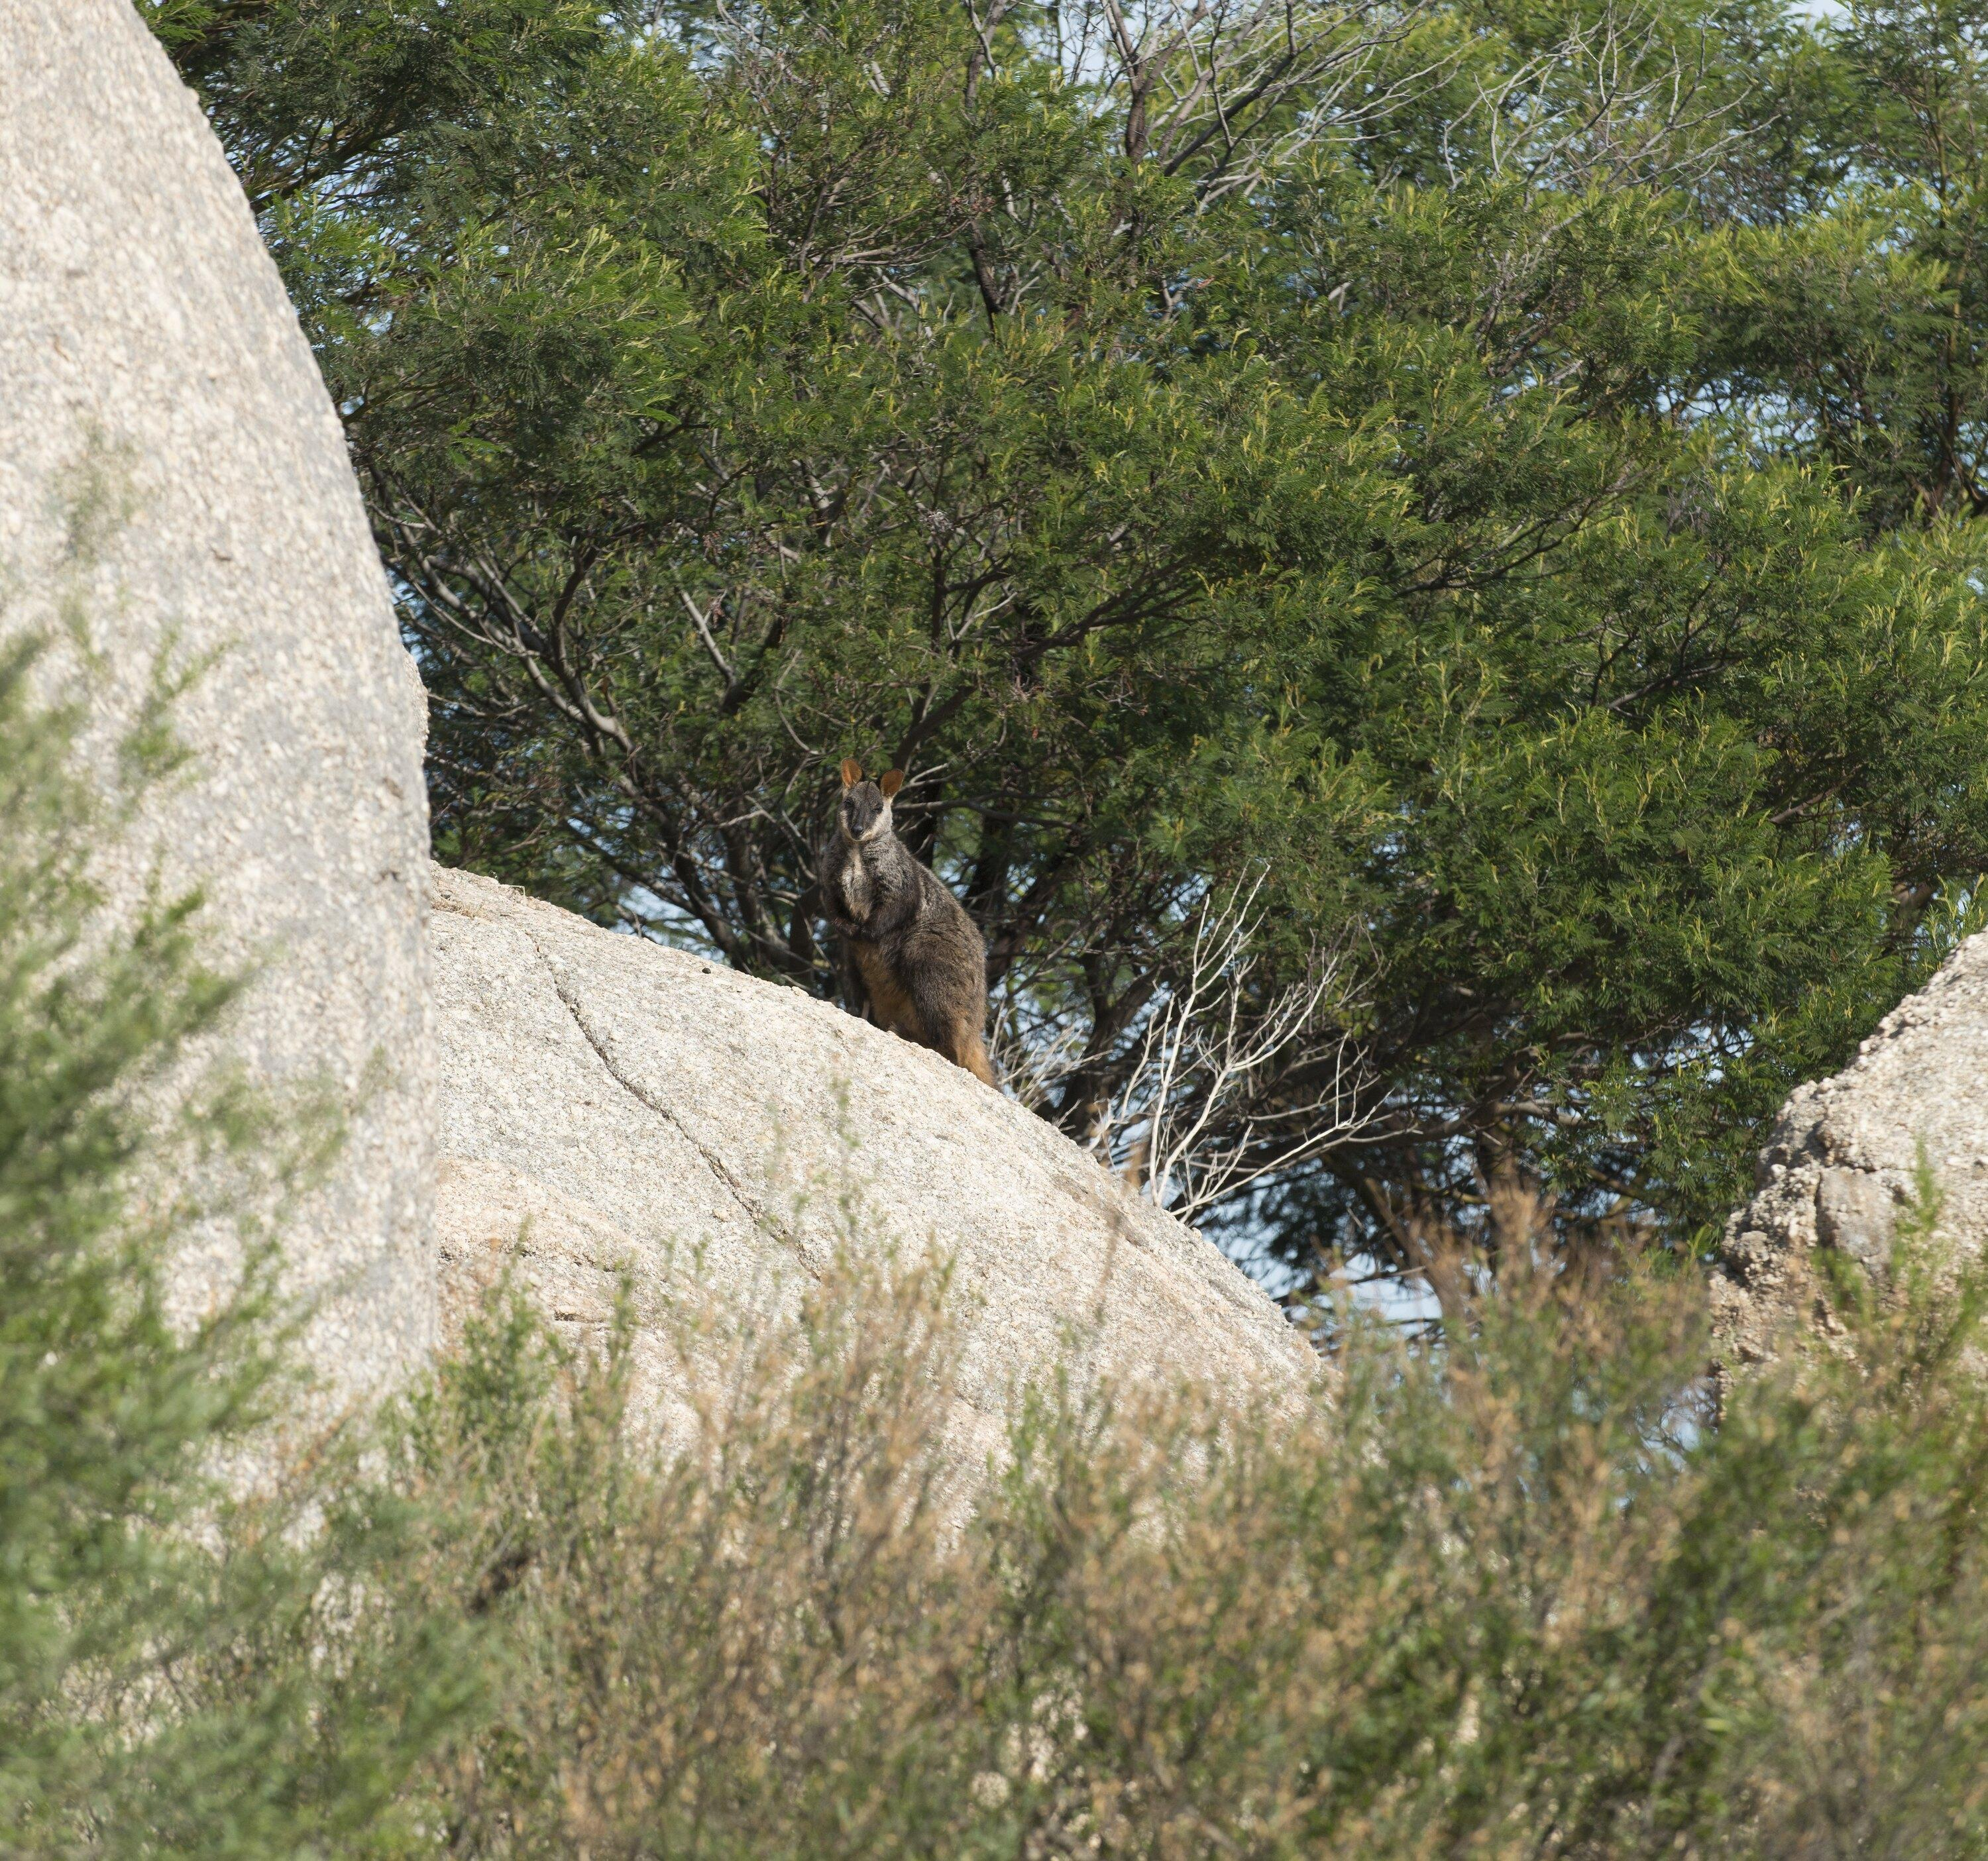Brush-tailed rock-wallaby: (822, 763, 1001, 1109)
